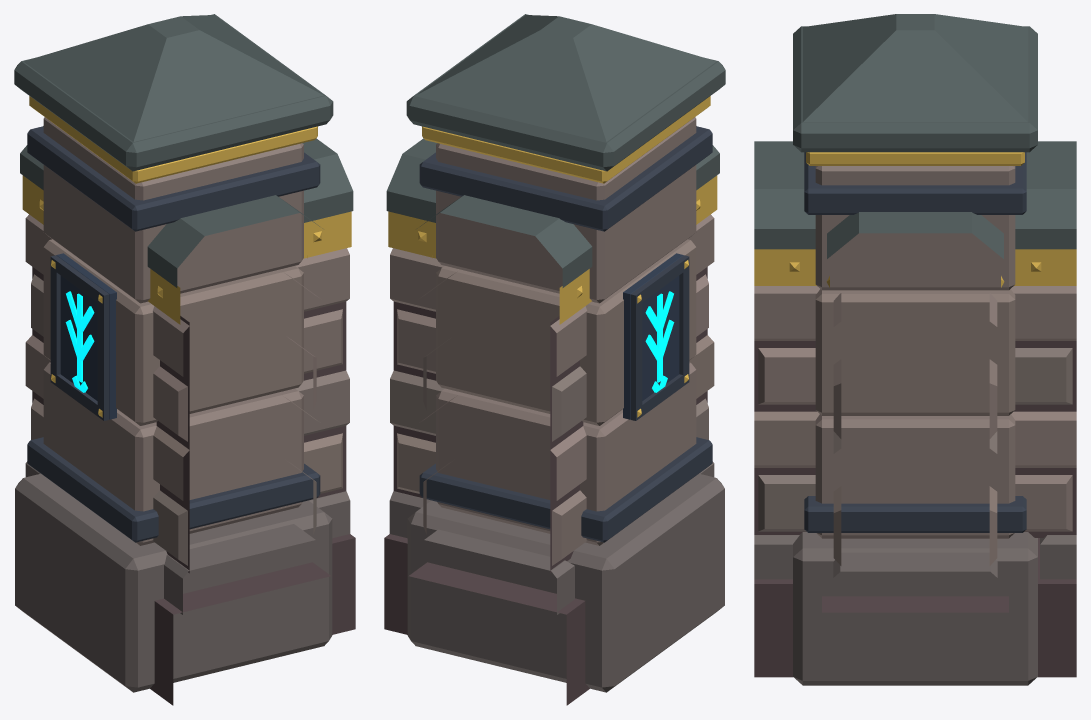
File: stone_wall_tee.glb
3 renders of one model, left to right at view 1: azimuth 30°, elevation 25°; view 2: azimuth 150°, elevation 25°; view 3: azimuth 270°, elevation 25°, orthographic. The views are drawn at different scales.
Parts seen in each view (by area): view 1: body, glow_runes; view 2: body, glow_runes; view 3: body.
Part boxes in pixels (<box>): body: <box>14,14,355,705</box>; glow_runes: <box>65,291,94,392</box>; body: <box>384,14,725,705</box>; glow_runes: <box>645,291,674,392</box>; body: <box>754,14,1076,685</box>.
Bounding box in the file's own units: 0.88 × 2.11 × 1.
